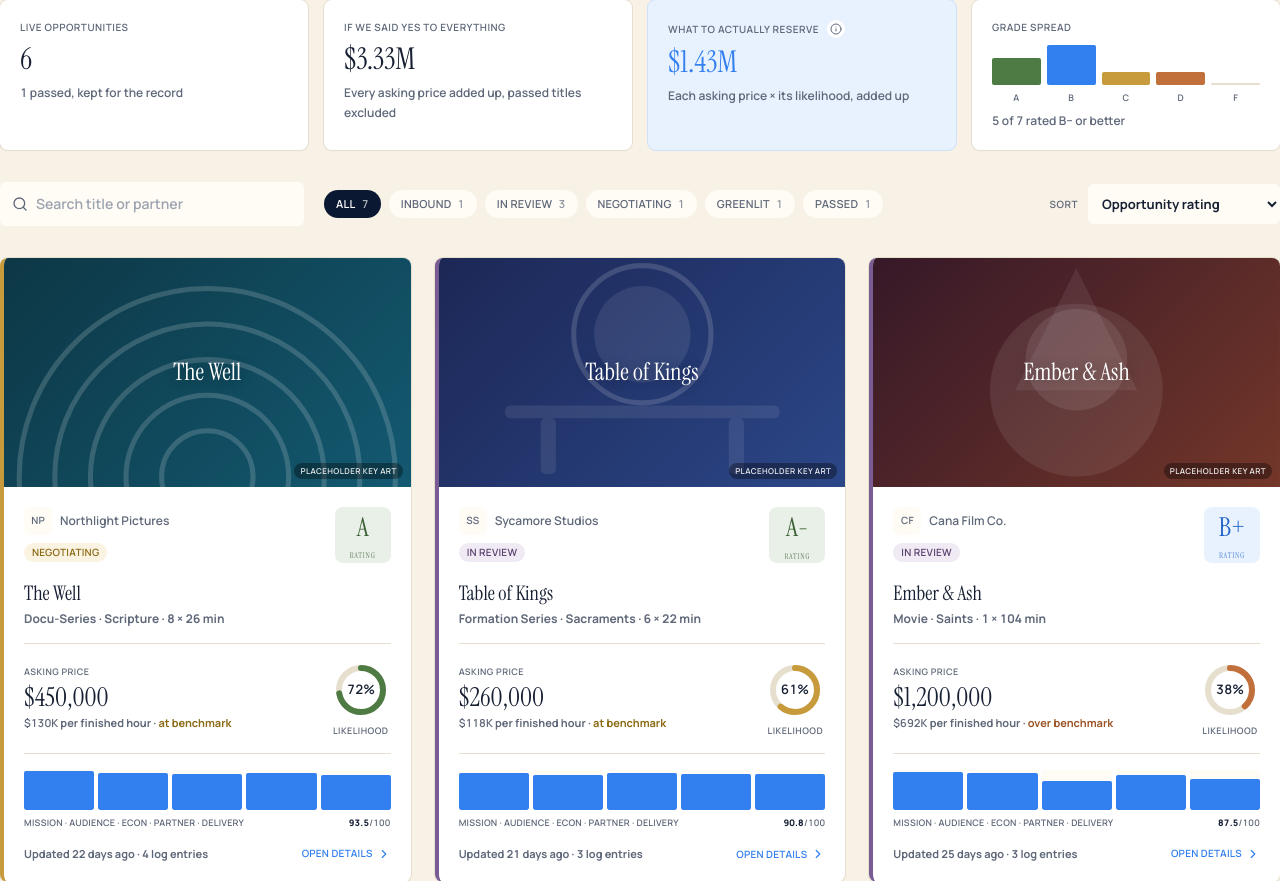
Test: CoproductionSlate › explains the reserve figure when the info button is opened
Expected: the text "Expected cost, not committed cost" is not shown
Click the button named "How the reserve figure is calculated": click(836, 29) [827, 20, 845, 38]
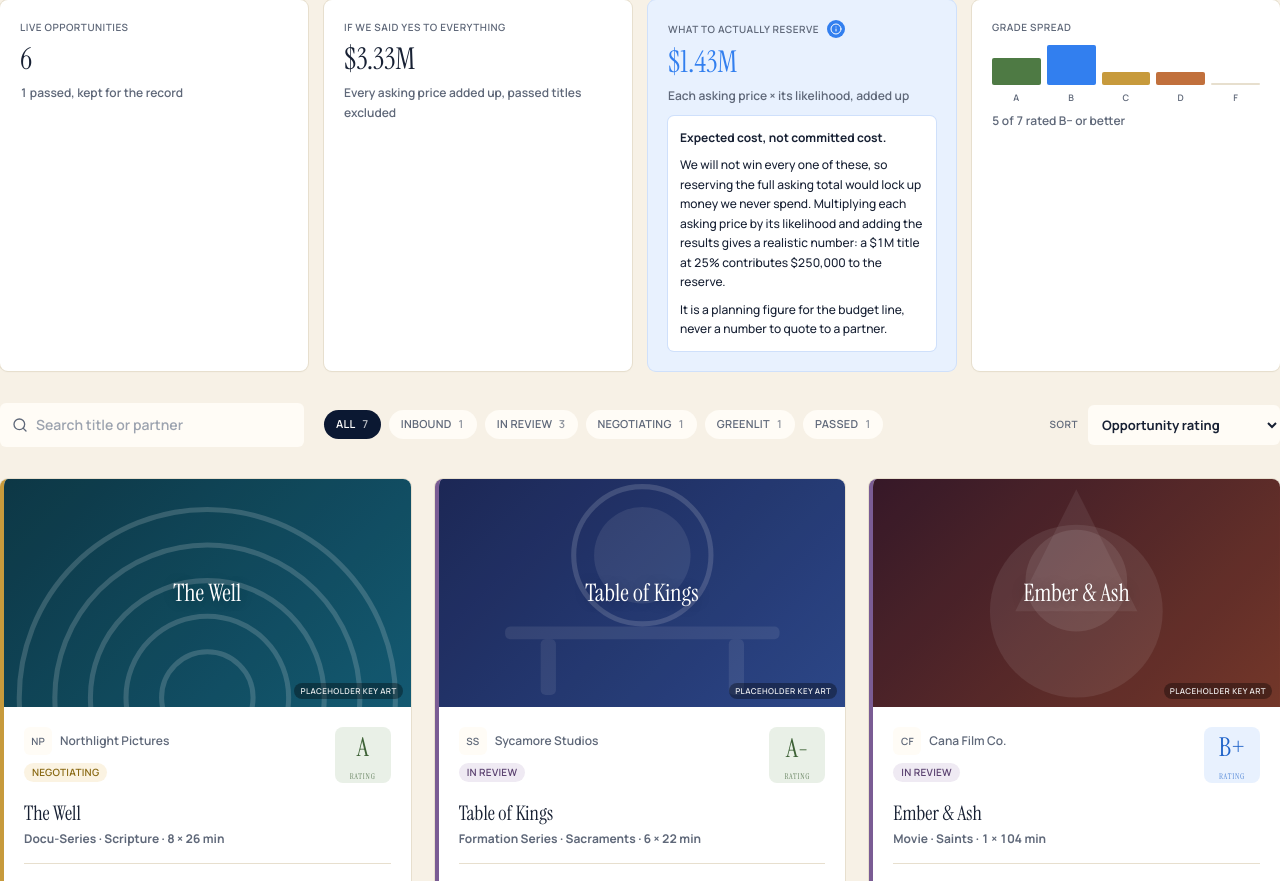
Expected: the text "Expected cost, not committed cost." is shown, [680, 128, 886, 146]
